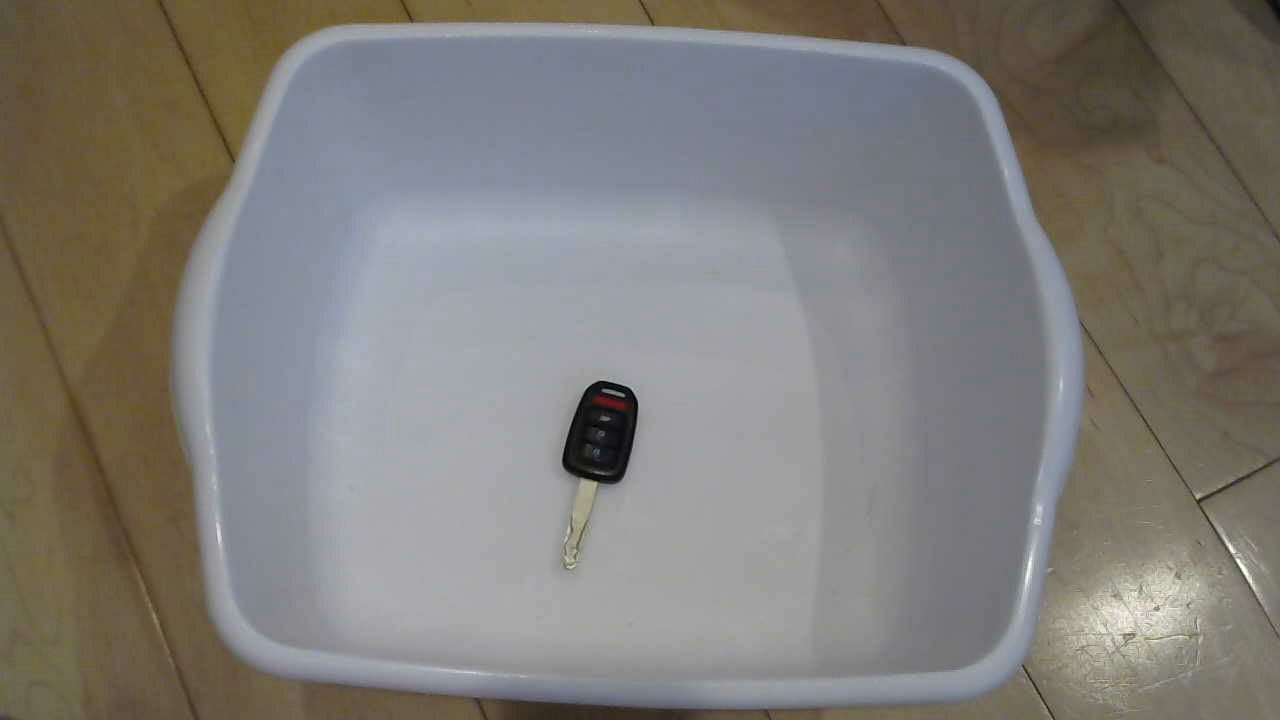key: (503, 385, 712, 577)
